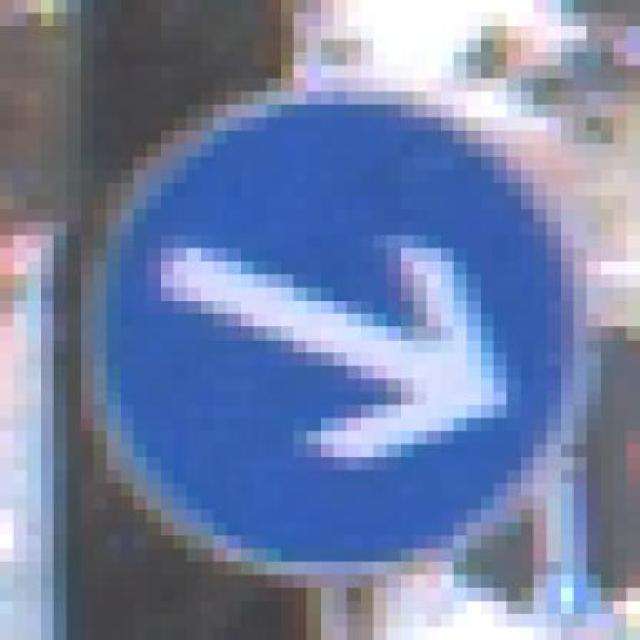Keep-Right: (66, 65, 614, 601)
